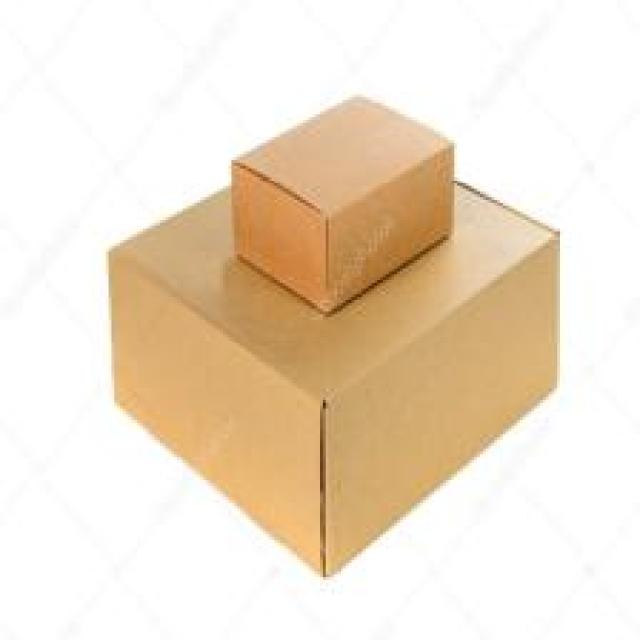box: (107, 177, 562, 580), (230, 95, 458, 315)
